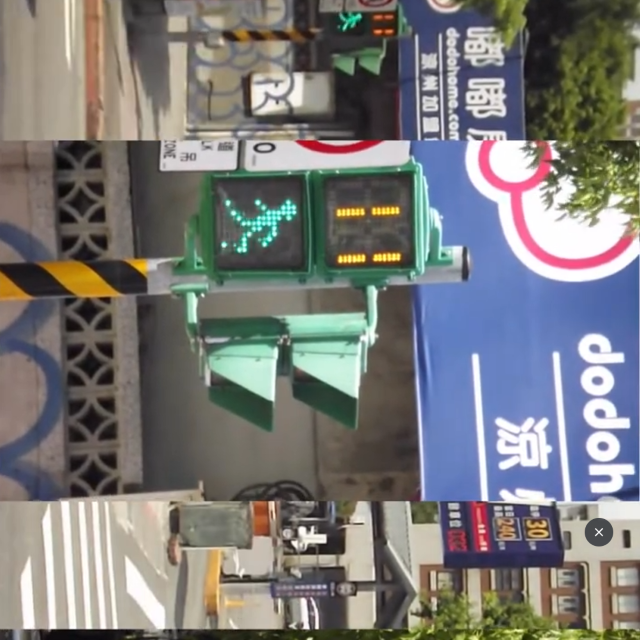green_light: (202, 169, 424, 277), (332, 14, 399, 37)
